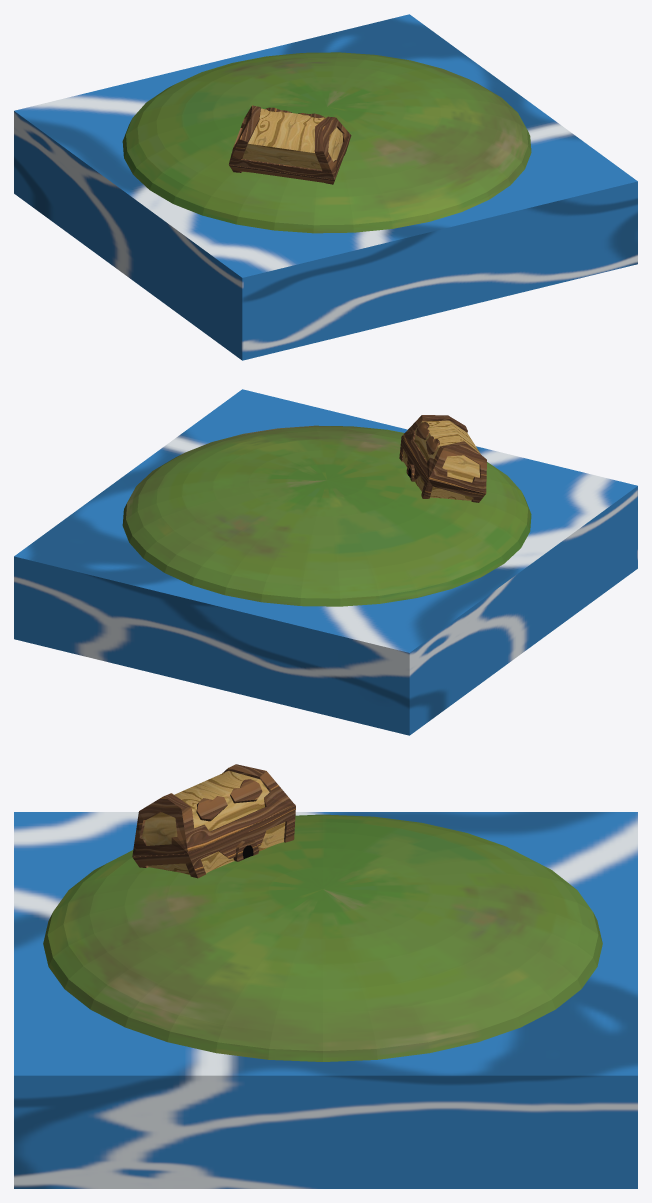
Rendered from chest_island.glb.
The picture shows the model from 3 angles, top to bottom: view 1: azimuth 30°, elevation 25°; view 2: azimuth 150°, elevation 25°; view 3: azimuth 270°, elevation 25°; orthographic projection. The views are drawn at different scales.
Visible parts, largest first — view 1: Cube.001, Object001_Material #29_0, Object001_Material #41_0, Box001_Material #41_0; view 2: Cube.001, Object001_Material #41_0, Object001_Material #29_0, Box001_Material #41_0, Box001_Material #29_0; view 3: Cube.001, Object001_Material #41_0, Object001_Material #29_0, Box001_Material #41_0, Box001_Material #29_0.
Part boxes in pixels (bbox=[...]): Cube.001: bbox=[14, 14, 637, 360]; Object001_Material #29_0: bbox=[240, 108, 342, 170]; Object001_Material #41_0: bbox=[229, 105, 350, 179]; Box001_Material #41_0: bbox=[229, 135, 351, 184]; Cube.001: bbox=[14, 389, 637, 735]; Object001_Material #41_0: bbox=[402, 415, 486, 493]; Object001_Material #29_0: bbox=[414, 420, 480, 482]; Box001_Material #41_0: bbox=[399, 436, 485, 502]; Box001_Material #29_0: bbox=[403, 449, 473, 500]; Cube.001: bbox=[14, 812, 637, 1188]; Object001_Material #41_0: bbox=[132, 764, 295, 856]; Object001_Material #29_0: bbox=[142, 770, 269, 845]; Box001_Material #41_0: bbox=[132, 804, 295, 878]; Box001_Material #29_0: bbox=[148, 822, 285, 874].
Size of the model in its own units: 10 by 3.94 by 10.
6 materials, 5 textured.
